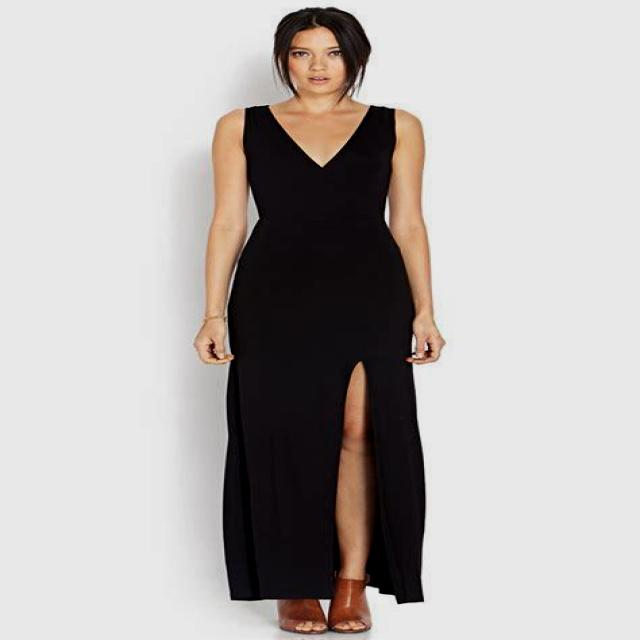dress: (226, 96, 427, 602)
